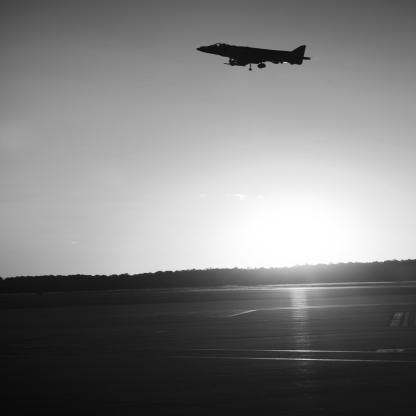AV8B: (197, 44, 320, 72)
